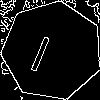I: (27, 26, 57, 73)
